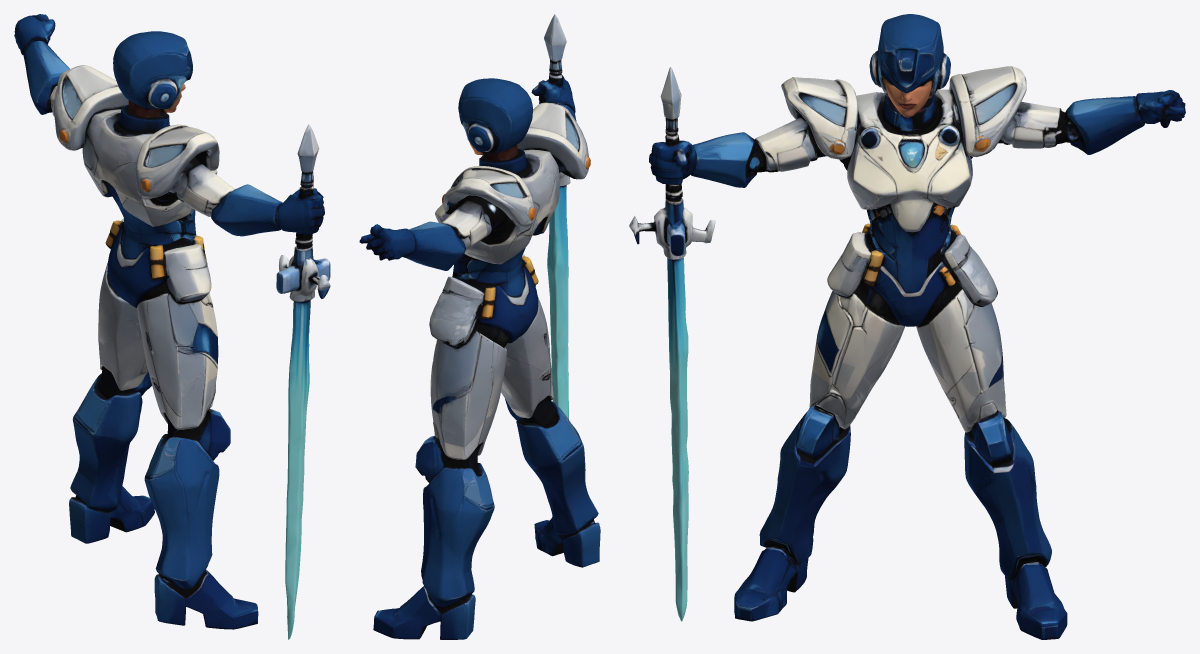
The model's file is captain-meridian.glb.
The picture shows the model from 3 angles, left to right: view 1: azimuth 30°, elevation 25°; view 2: azimuth 150°, elevation 25°; view 3: azimuth 270°, elevation 25°; orthographic projection. The views are drawn at different scales.
Parts seen in each view (by area): view 1: tripo_node_ad784ce6-3d9a-45f1-a469-d8b16676b43b; view 2: tripo_node_ad784ce6-3d9a-45f1-a469-d8b16676b43b; view 3: tripo_node_ad784ce6-3d9a-45f1-a469-d8b16676b43b.
Boxes of the visible parts, x1,y1,x2,y2 form: tripo_node_ad784ce6-3d9a-45f1-a469-d8b16676b43b: (14, 14, 330, 639); tripo_node_ad784ce6-3d9a-45f1-a469-d8b16676b43b: (359, 14, 600, 639); tripo_node_ad784ce6-3d9a-45f1-a469-d8b16676b43b: (629, 14, 1185, 639).
Bounding box in the file's own units: 0.2622 × 1 × 0.8561.
Materials: 1 (1 with a texture image).
